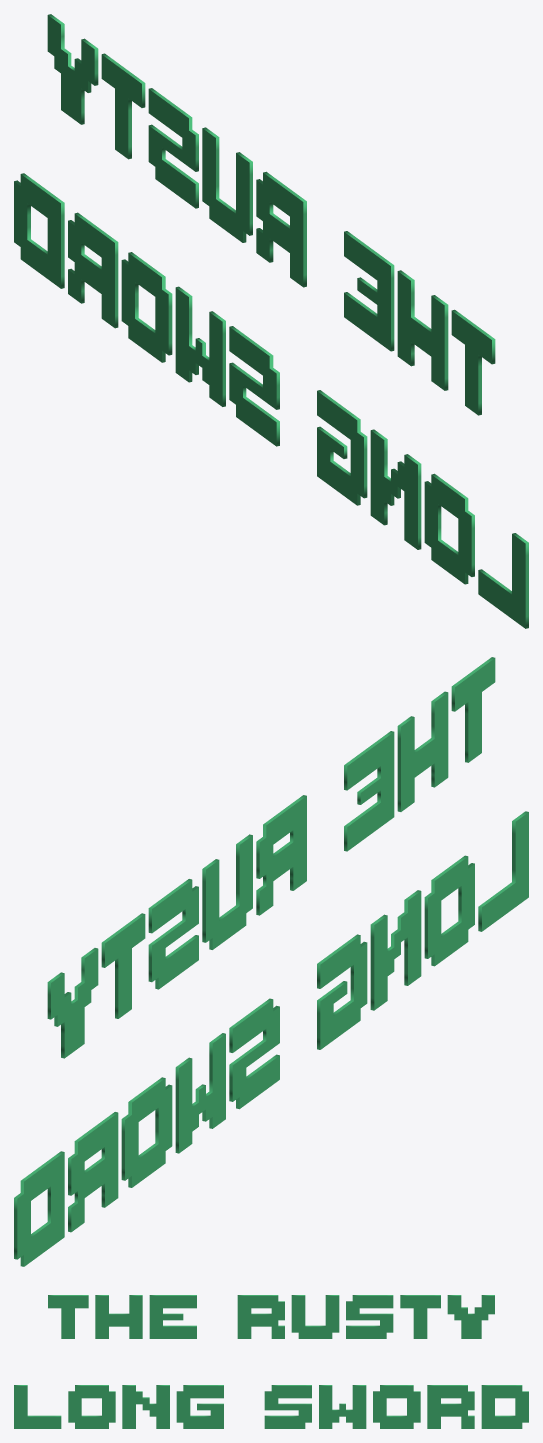
File: RustyLongSwordBanner.fbx
The picture shows the model from 3 angles, top to bottom: view 1: azimuth 30°, elevation 25°; view 2: azimuth 150°, elevation 25°; view 3: azimuth 270°, elevation 25°; orthographic projection. The views are drawn at different scales.
Parts seen in each view (by area): view 1: Text; view 2: Text; view 3: Text.
Part boxes in pixels (left/top/right/bottom): Text: left=14, top=14, right=528, bottom=628; Text: left=14, top=657, right=528, bottom=1266; Text: left=14, top=1295, right=528, bottom=1428.
Bounding box in the file's own units: 2 × 148 × 519.
